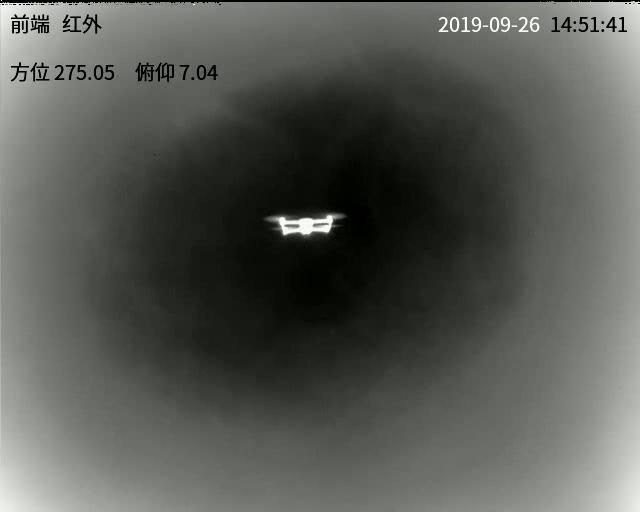DRONE: (271, 213, 339, 236)
